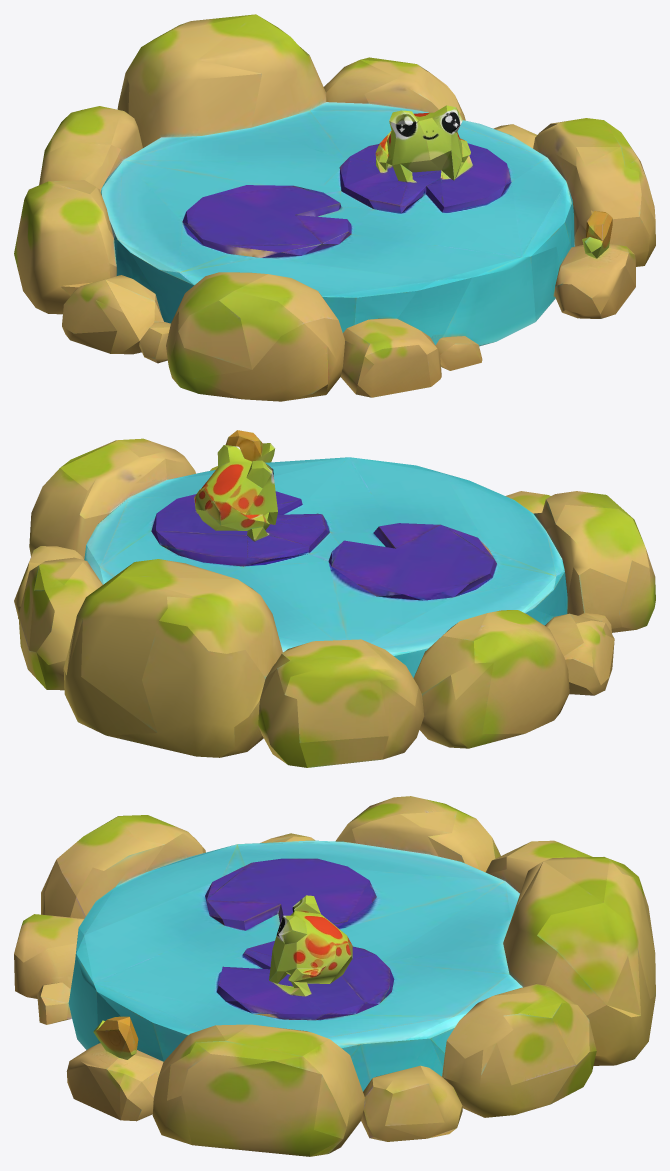
The model's file is lily_pond.glb.
The picture shows the model from 3 angles, top to bottom: view 1: azimuth 30°, elevation 25°; view 2: azimuth 150°, elevation 25°; view 3: azimuth 270°, elevation 25°; orthographic projection. The views are drawn at different scales.
Size of the model in its own units: 1.9 by 0.4774 by 1.82.
Materials: 1 (1 with a texture image).
